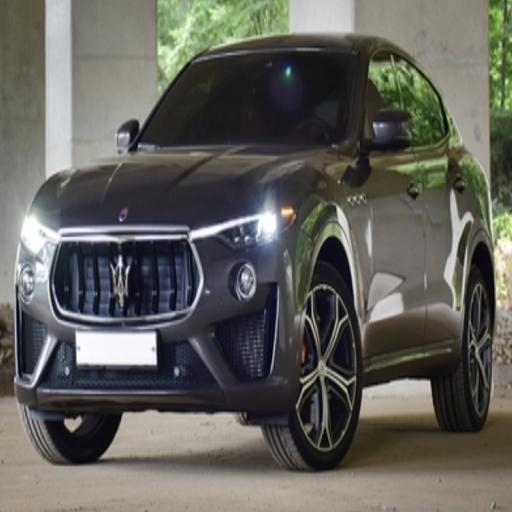normal: (13, 18, 499, 462)
